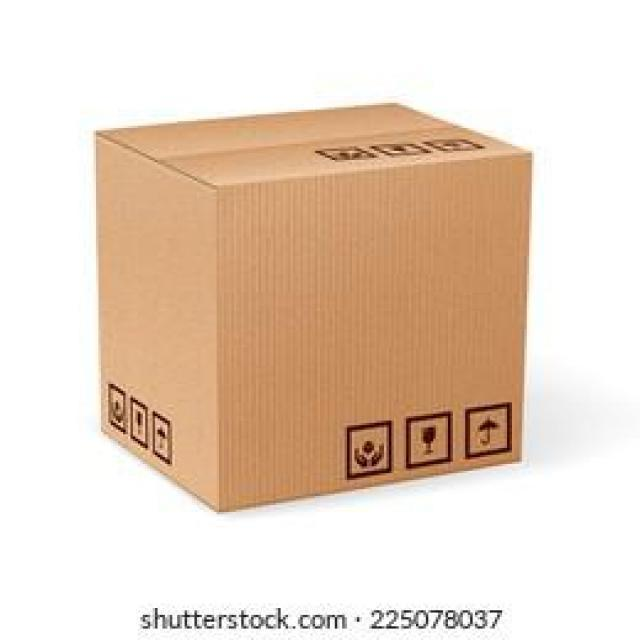box: (79, 89, 537, 525)
